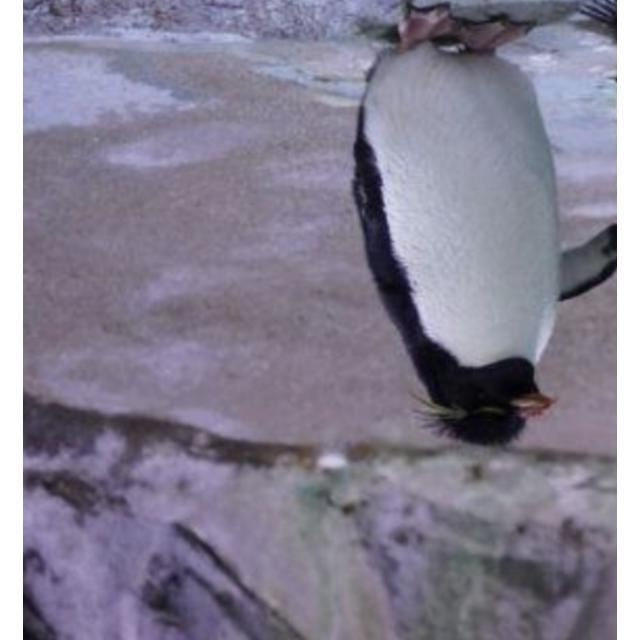penguin: (351, 5, 614, 443)
